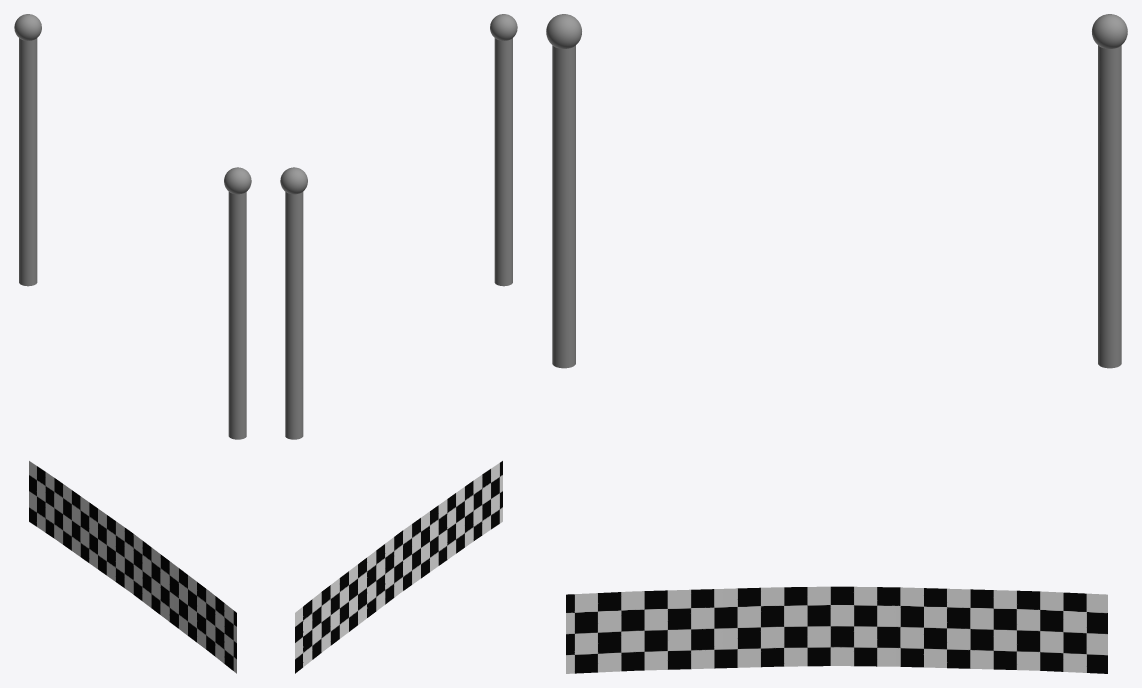
Rendered from banner_3.FBX.
The picture shows the model from 3 angles, left to right: view 1: azimuth 30°, elevation 25°; view 2: azimuth 150°, elevation 25°; view 3: azimuth 270°, elevation 25°; orthographic projection. The views are drawn at different scales.
Parts seen in each view (by area): view 1: Cylinder003, Object002; view 2: Cylinder003, Object002; view 3: Cylinder003, Object002.
Boxes of the visible parts, bbox=[...] form: Cylinder003: bbox=[29, 461, 236, 673]; Object002: bbox=[14, 14, 251, 439]; Cylinder003: bbox=[295, 461, 502, 673]; Object002: bbox=[280, 14, 517, 439]; Cylinder003: bbox=[566, 586, 1107, 673]; Object002: bbox=[546, 14, 1127, 368].
Size of the model in its own units: 8.87 by 179 by 143.
2 materials, 1 textured.
